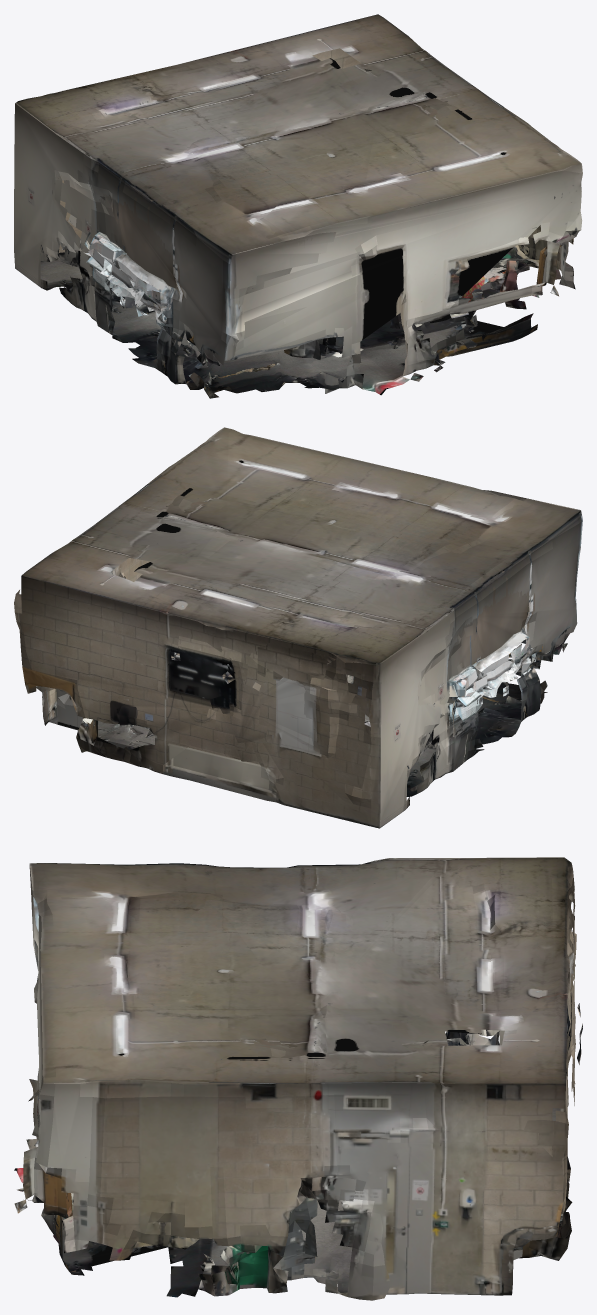
3 views of the same model, one above another, from view 1: azimuth 30°, elevation 25°; view 2: azimuth 150°, elevation 25°; view 3: azimuth 270°, elevation 25° (orthographic). The views are drawn at different scales.
Visible parts, largest first — view 1: MG04-IM; view 2: MG04-IM; view 3: MG04-IM.
Part boxes in pixels (left/top/right/bottom): MG04-IM: left=14, top=14, right=582, bottom=398; MG04-IM: left=14, top=427, right=582, bottom=828; MG04-IM: left=14, top=857, right=582, bottom=1300.
Size of the model in its own units: 761 by 351 by 761.
1 material, 1 textured.
